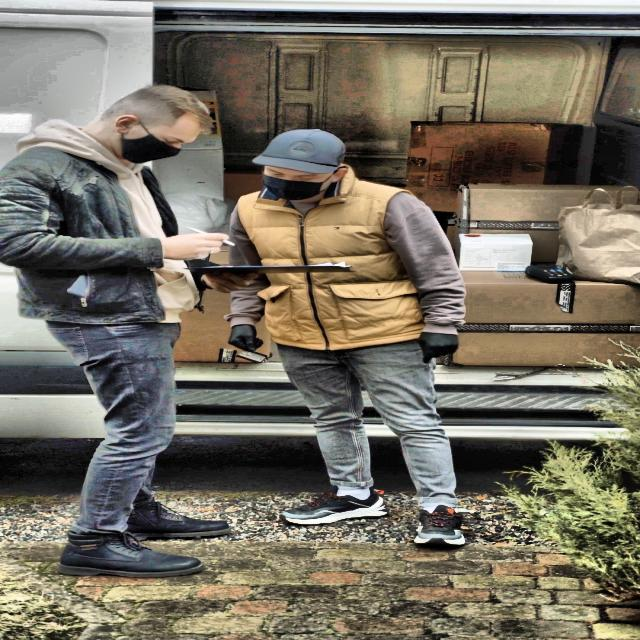gloved: (152, 224, 252, 270), (391, 329, 490, 361), (216, 314, 270, 354)
